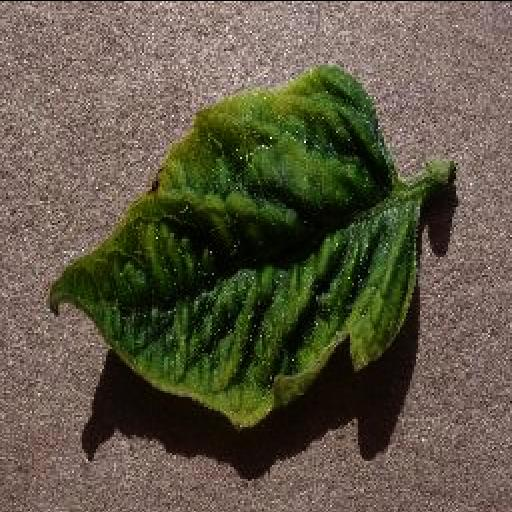disease_tomato: (48, 64, 422, 426)
